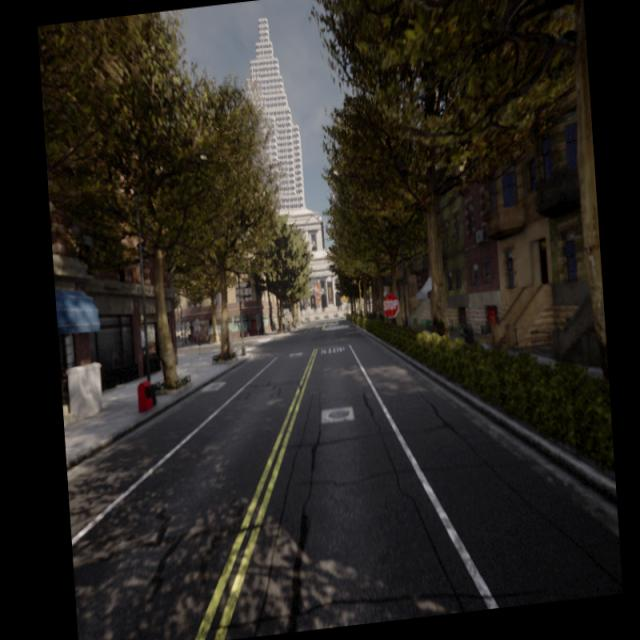stop sign: (380, 289, 401, 320)
